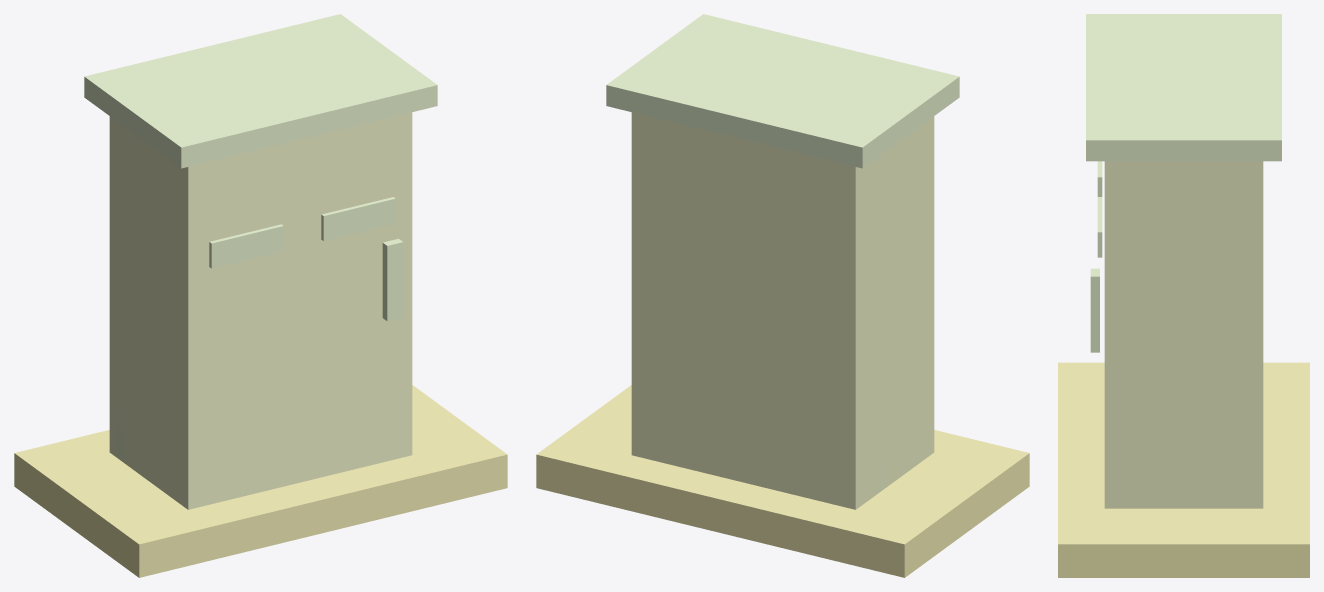
The model's file is furniture_rail_crossing_battery_box.glb.
The picture shows the model from 3 angles, left to right: view 1: azimuth 30°, elevation 25°; view 2: azimuth 150°, elevation 25°; view 3: azimuth 270°, elevation 25°; orthographic projection.
Visible parts, largest first — view 1: body, pad, cap, vent_right, vent_left, door_latch; view 2: body, pad, cap; view 3: body, pad, cap, door_latch, vent_right.
Boxes of the visible parts, x1=… form: body: x1=109, y1=112, x2=412, y2=509; pad: x1=14, y1=385, x2=507, y2=577; cap: x1=84, y1=14, x2=437, y2=168; vent_right: x1=321, y1=197, x2=395, y2=241; vent_left: x1=209, y1=224, x2=283, y2=268; door_latch: x1=382, y1=238, x2=403, y2=321; body: x1=631, y1=112, x2=934, y2=509; pad: x1=536, y1=385, x2=1029, y2=577; cap: x1=606, y1=14, x2=959, y2=168; body: x1=1104, y1=161, x2=1263, y2=508; pad: x1=1058, y1=362, x2=1309, y2=577; cap: x1=1086, y1=14, x2=1281, y2=161; door_latch: x1=1090, y1=268, x2=1099, y2=352; vent_right: x1=1097, y1=197, x2=1102, y2=257.
Bounding box in the file's own units: 0.92 × 0.97 × 0.54.
